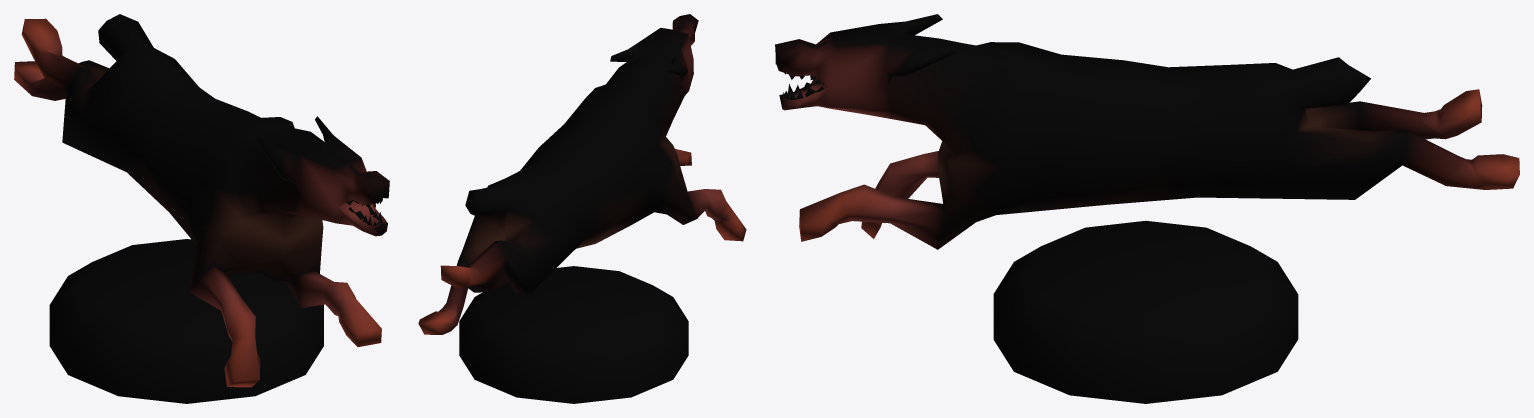
The model's file is war_dog_01_speed.fbx.
The picture shows the model from 3 angles, left to right: view 1: azimuth 30°, elevation 25°; view 2: azimuth 150°, elevation 25°; view 3: azimuth 270°, elevation 25°; orthographic projection. The views are drawn at different scales.
Visible parts, largest first — view 1: guard_dog_lp.024; view 2: guard_dog_lp.024; view 3: guard_dog_lp.024.
Boxes of the visible parts, x1=… form: guard_dog_lp.024: x1=14, y1=14, x2=389, y2=403; guard_dog_lp.024: x1=418, y1=14, x2=746, y2=403; guard_dog_lp.024: x1=775, y1=14, x2=1519, y2=403.
Bounding box in the file's own units: 0.9882 × 1.13 × 2.42.
